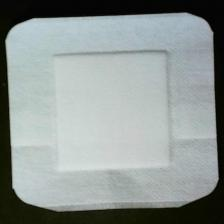Dressing: (4, 9, 221, 214)
